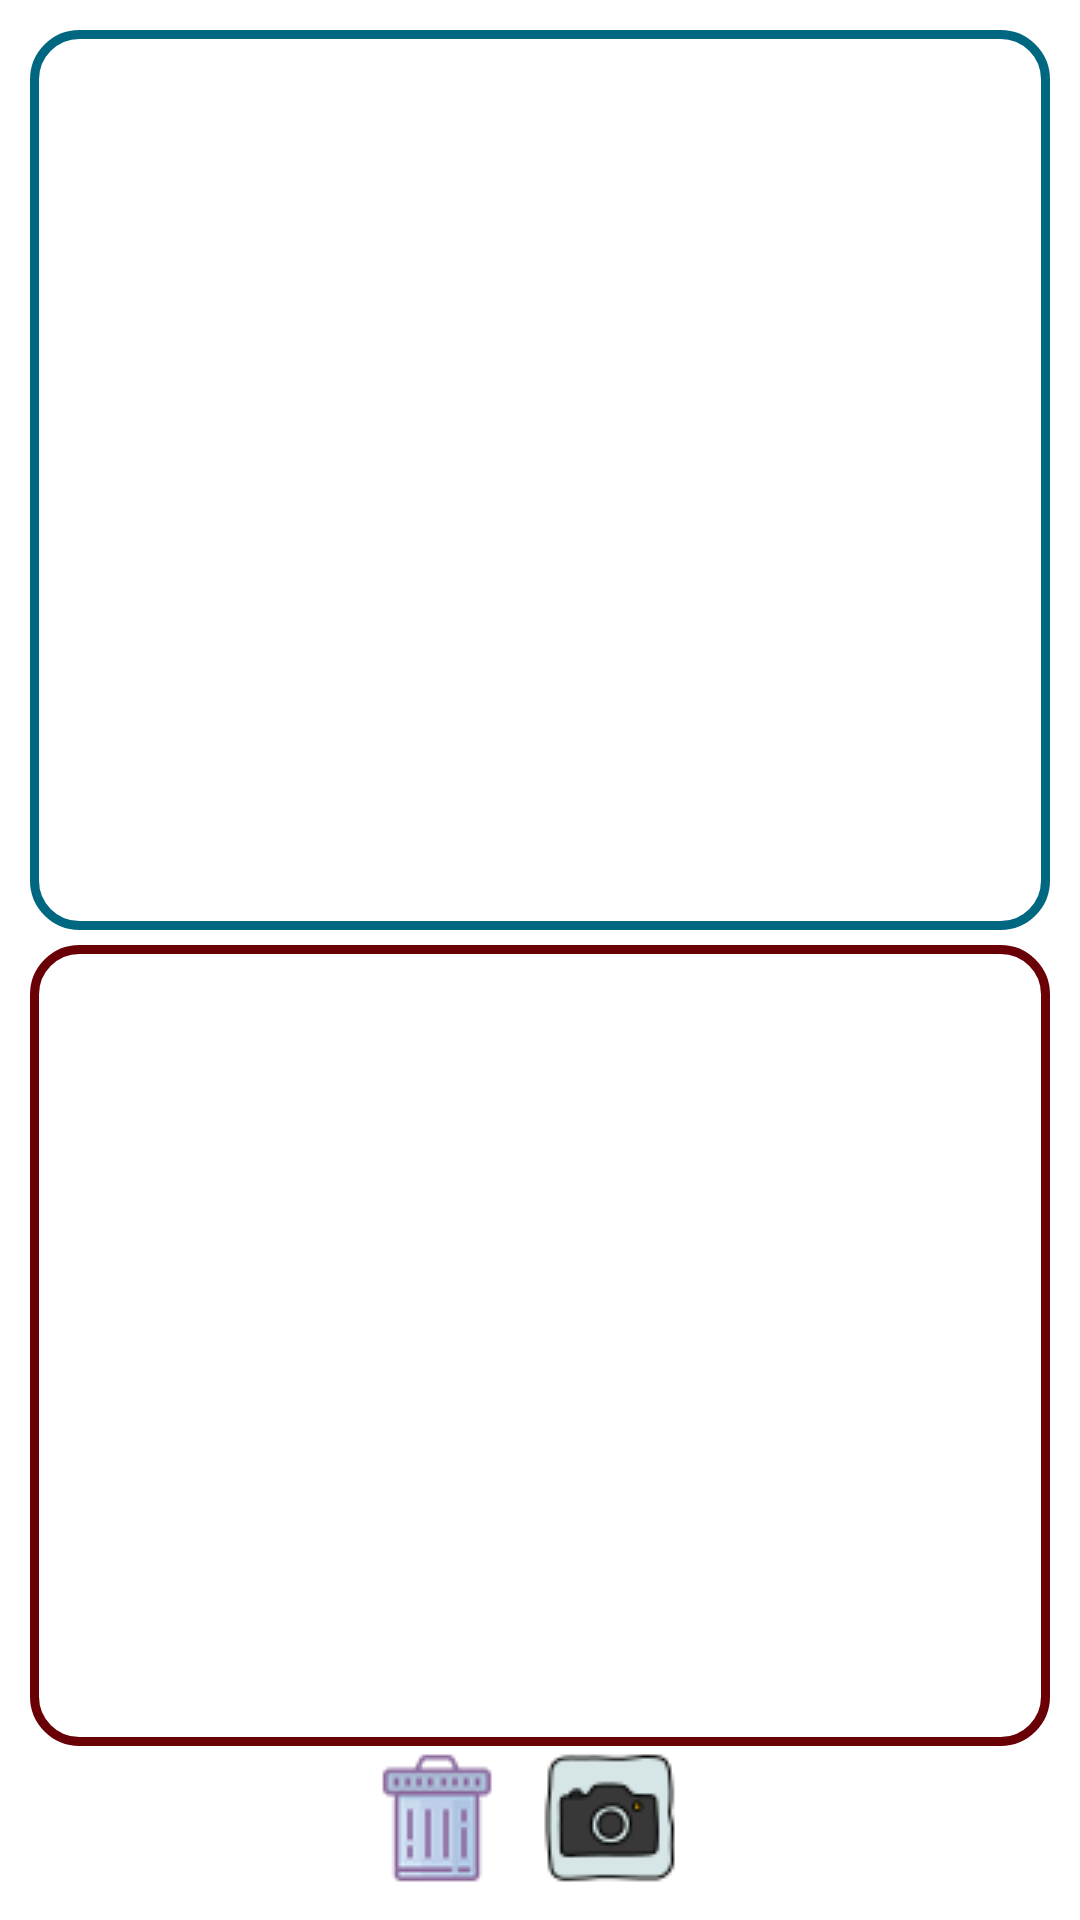

Point at icon controls on the screen. Image size 1080px x 1920px, points as (x=x, y=y).
camera: (x=609, y=1818)
delete: (x=437, y=1818)
